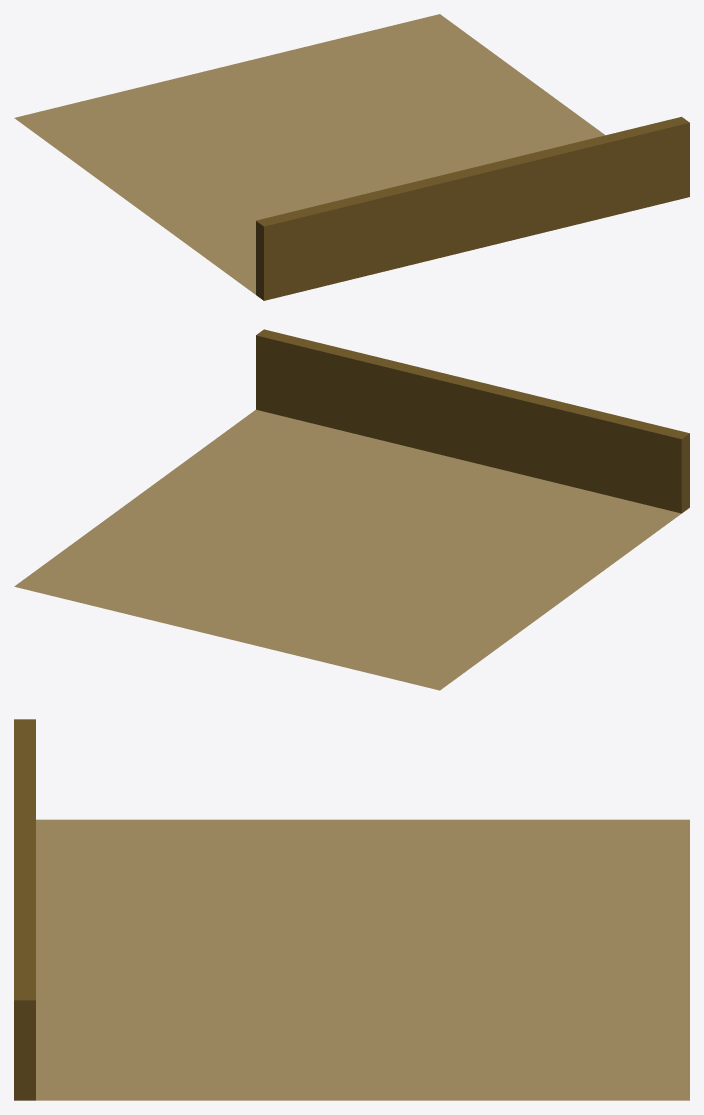
Rendered from Tile 47_Combined.fbx.
3 renders of one model, top to bottom at view 1: azimuth 30°, elevation 25°; view 2: azimuth 150°, elevation 25°; view 3: azimuth 270°, elevation 25°, orthographic. The views are drawn at different scales.
Parts seen in each view (by area): view 1: MeshBaker_mesh_mesh; view 2: MeshBaker_mesh_mesh; view 3: MeshBaker_mesh_mesh.
Boxes of the visible parts, x1,y1,x2,y2 form: MeshBaker_mesh_mesh: [14, 14, 689, 300]; MeshBaker_mesh_mesh: [14, 329, 689, 690]; MeshBaker_mesh_mesh: [14, 719, 689, 1100].
Size of the model in its own units: 3000 by 500 by 3050.
